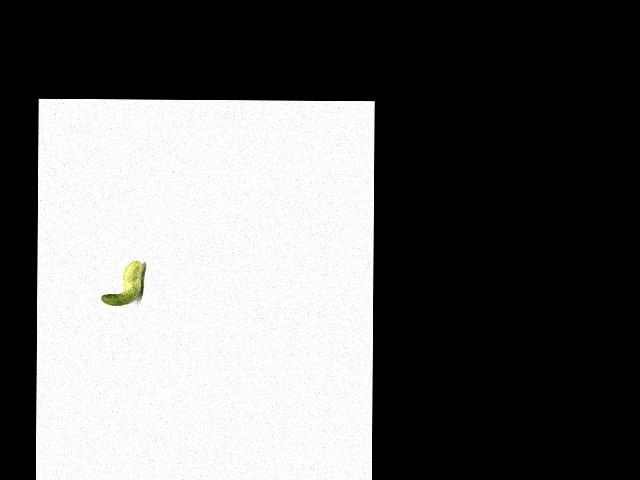cucumber: (101, 260, 143, 306)
